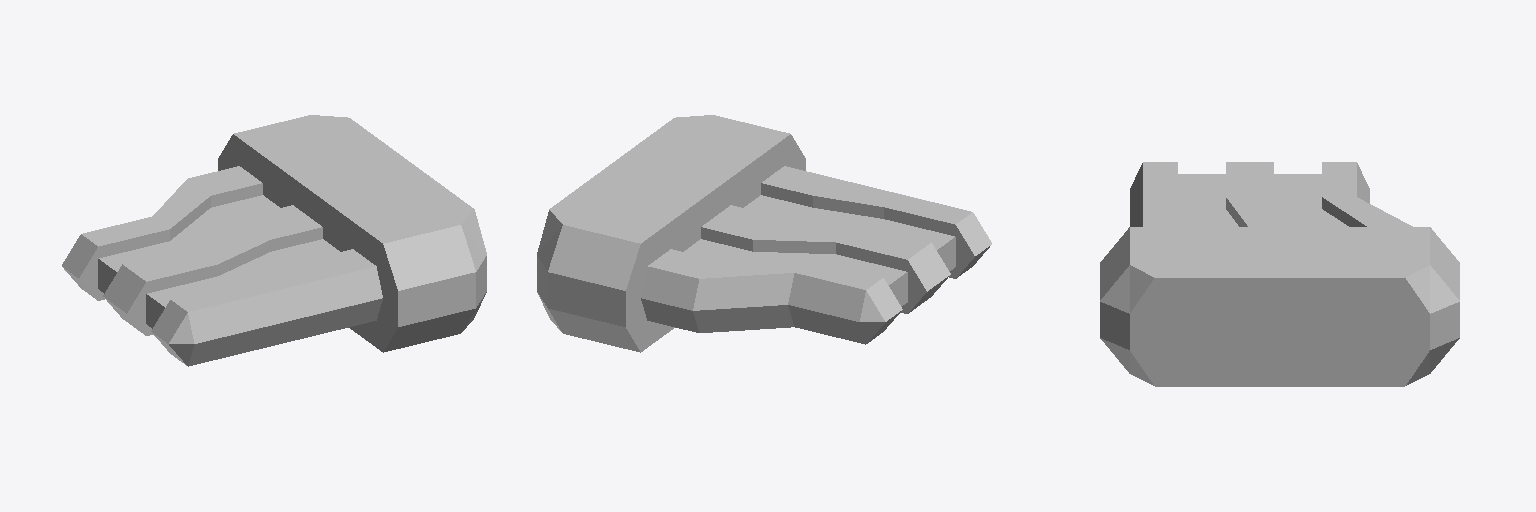
File: obstacle.obj
3 views of the same model, side by side, from view 1: azimuth 30°, elevation 25°; view 2: azimuth 150°, elevation 25°; view 3: azimuth 270°, elevation 25° (orthographic).
Visible parts, largest first — view 1: cuboid; view 2: cuboid; view 3: cuboid.
Boxes of the visible parts, x1=… form: cuboid: x1=62, y1=115, x2=486, y2=366; cuboid: x1=537, y1=115, x2=991, y2=352; cuboid: x1=1100, y1=162, x2=1459, y2=386.
Size of the model in its own units: 0.075 by 0.025 by 0.075.